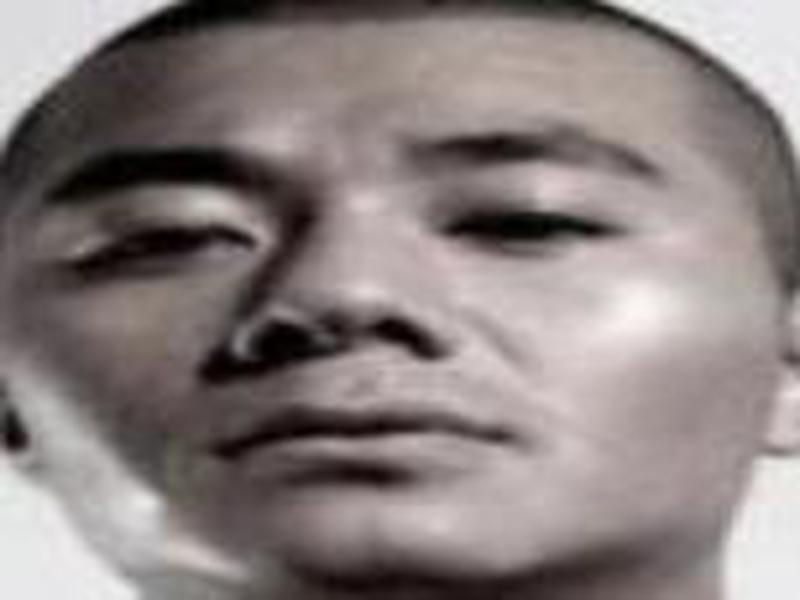without_mask: (6, 91, 800, 568)
